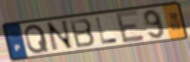9: (143, 8, 166, 40)
B: (68, 17, 97, 50)
E: (114, 10, 146, 45)
L: (94, 16, 120, 46)
N: (45, 19, 76, 53)
Q: (23, 23, 51, 55)
